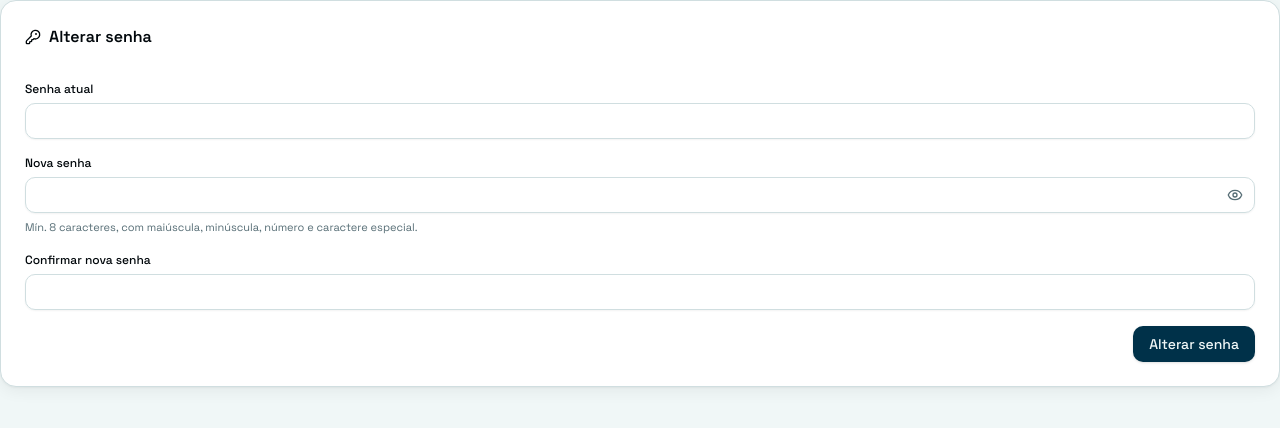
Test: ChangePasswordCard › blocks submission client-side for a weak new password
This screenshot has width=1280, height=428.
Step 1. Type "Old@Pass123" into the password field labelled "Senha atual" → {"x": 640, "y": 121}, box 25,103 -> 1255,139
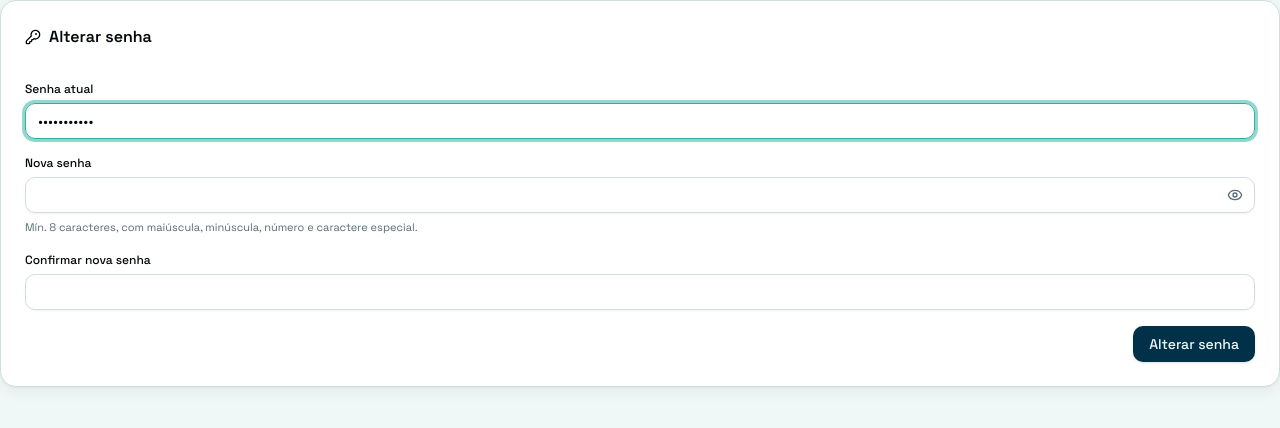
Step 2. Type "weak" into the password field labelled "Nova senha" → {"x": 640, "y": 195}, box 25,177 -> 1255,213
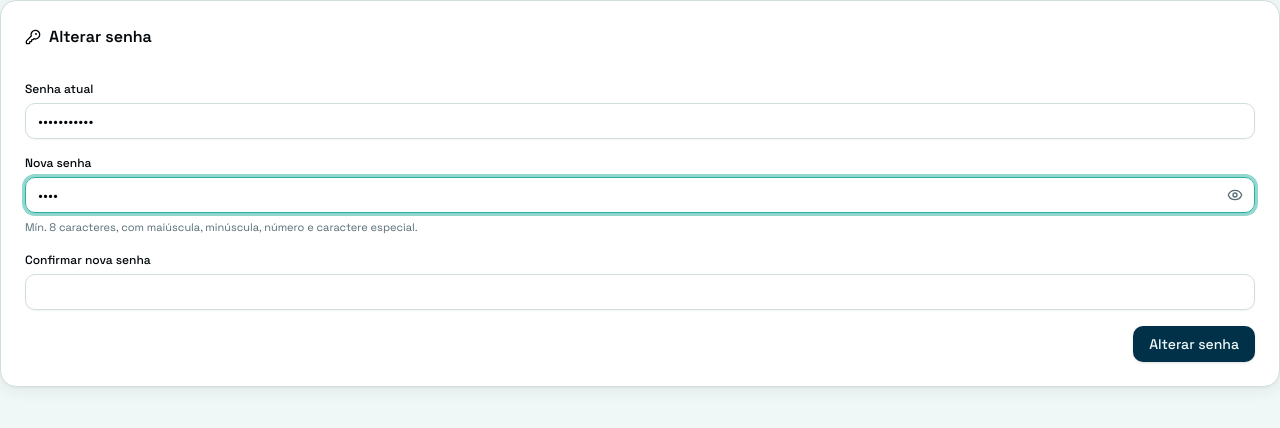
Step 3. Type "weak" into the password field labelled "Confirmar nova senha" → {"x": 640, "y": 292}, box 25,274 -> 1255,310
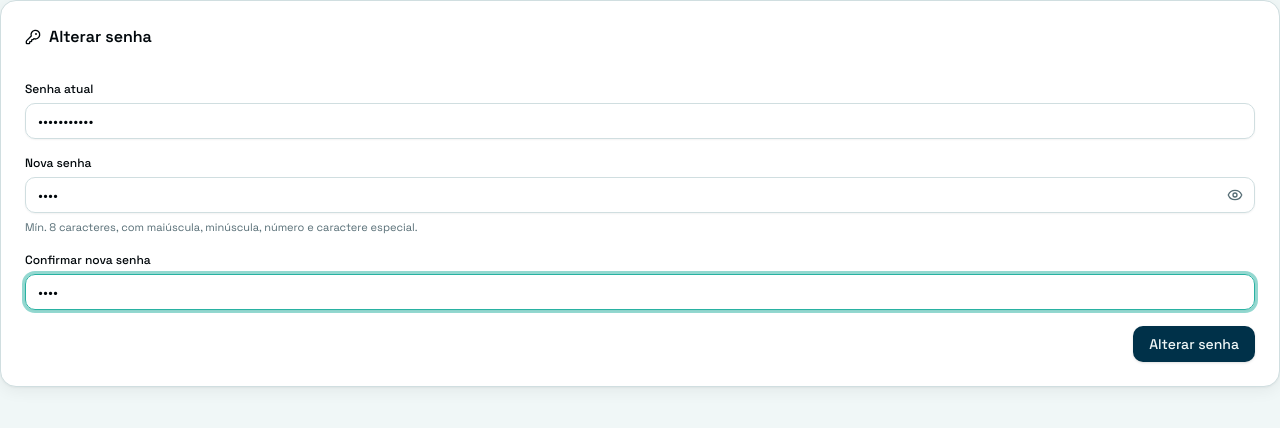
Step 4. Click the button "Alterar senha" → {"x": 1194, "y": 344}, box 1133,326 -> 1255,362
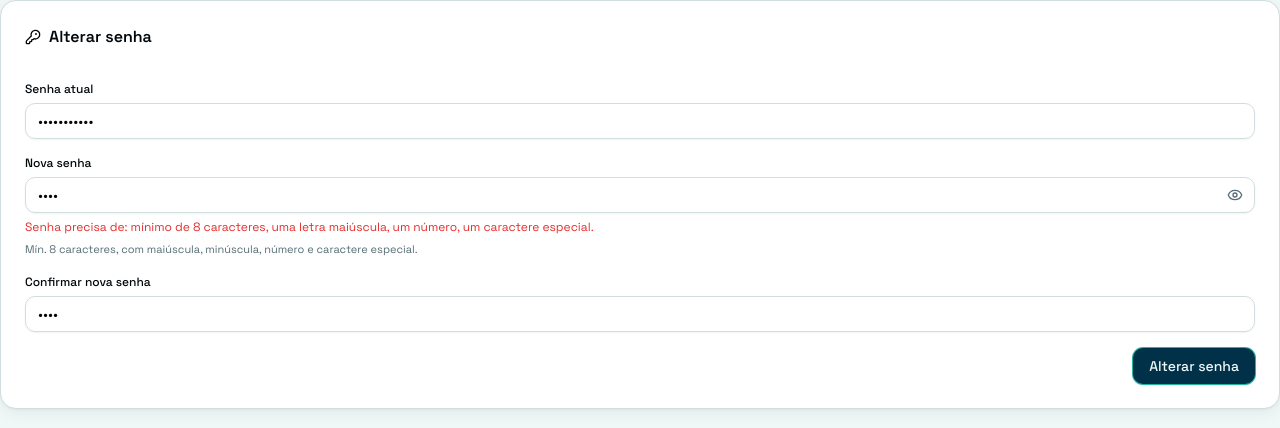
Expected: the text "Senha precisa de:" is shown, 25,219 -> 594,235
